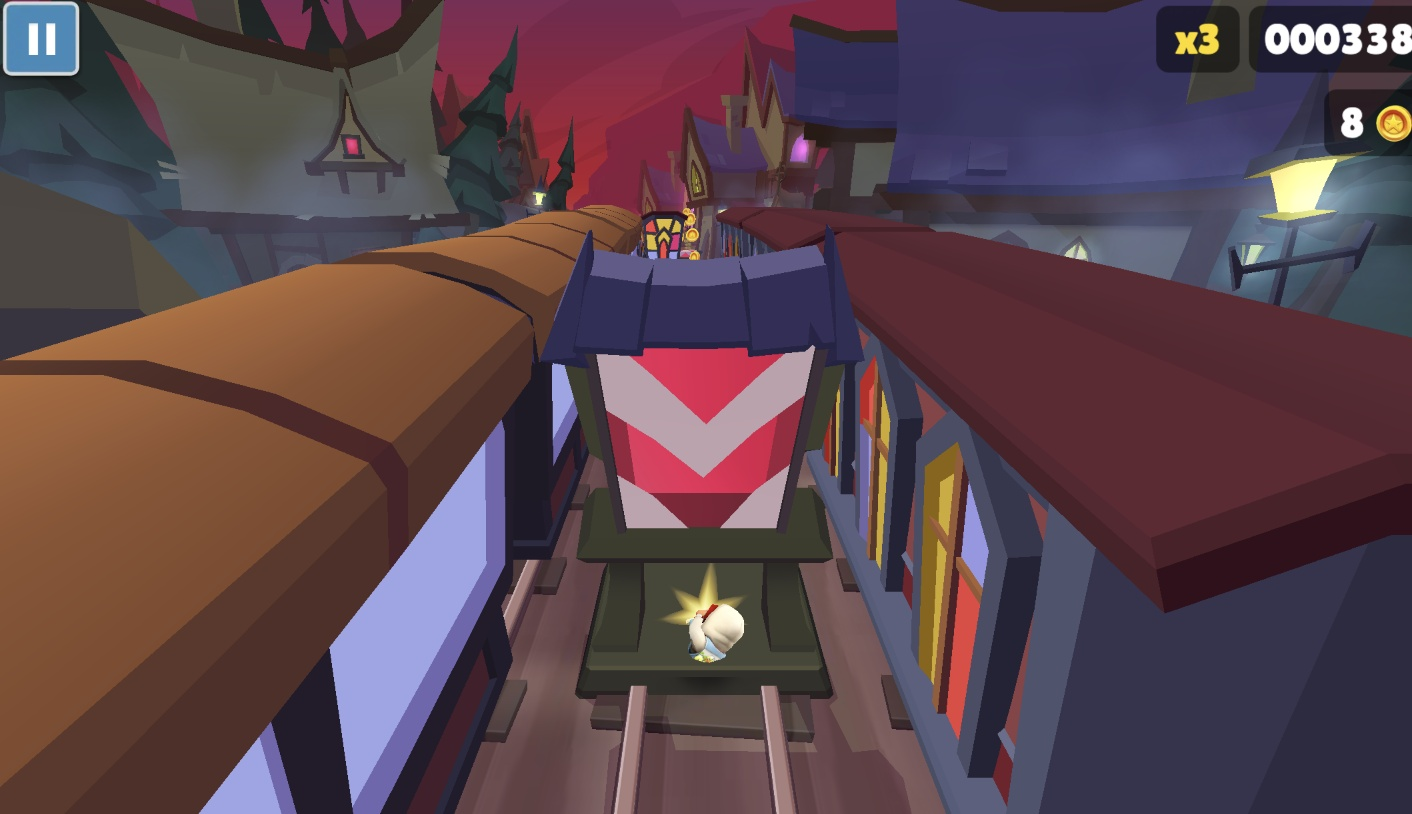overhead_barrier: (534, 230, 868, 706)
train: (716, 207, 1412, 814), (0, 204, 642, 814), (638, 210, 692, 261)
